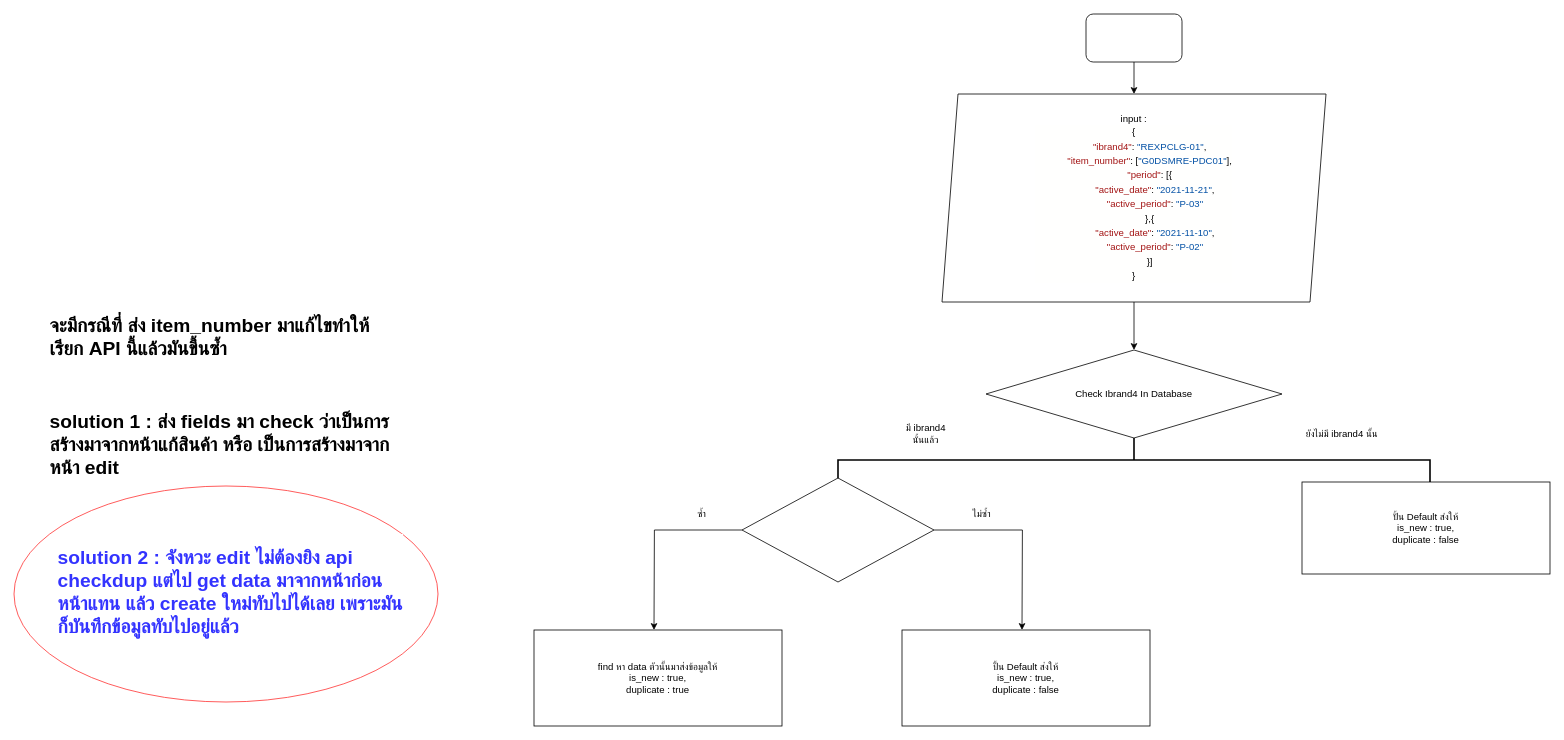
This 1564x740 diagram has some shape labels left out. Here are the shapes that lost their labels. From the top down, the centre of each, then its label:
At point 1133,37: "Start API Check dup".
At point 837,529: "Check Active Period, active date , item_number ว่ามีอยู่แล้วหรือไม่".
